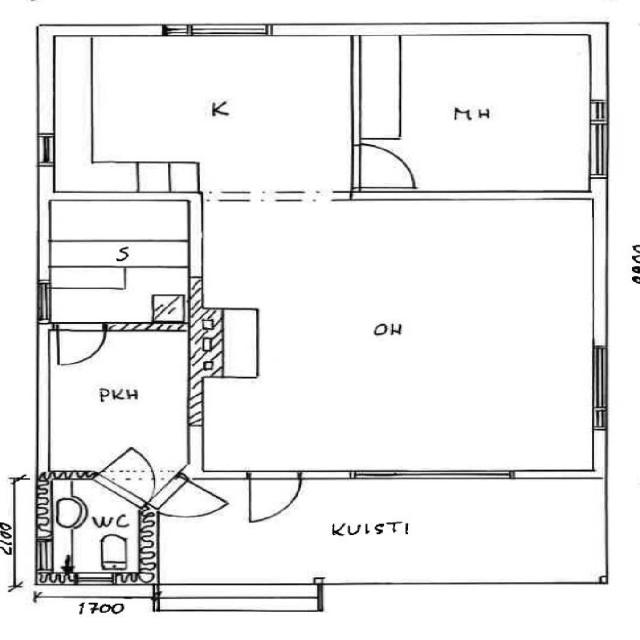door: (243, 472, 304, 525), (170, 474, 236, 521), (354, 140, 416, 189), (54, 323, 108, 369)
window: (583, 342, 616, 416), (584, 120, 614, 182), (188, 21, 270, 39), (267, 25, 354, 41), (32, 278, 57, 324), (72, 572, 121, 590), (159, 22, 196, 38)
zone: (90, 34, 360, 192), (371, 33, 604, 194), (42, 329, 196, 484), (45, 205, 193, 331), (50, 478, 156, 584), (206, 308, 260, 379), (356, 140, 416, 190)
